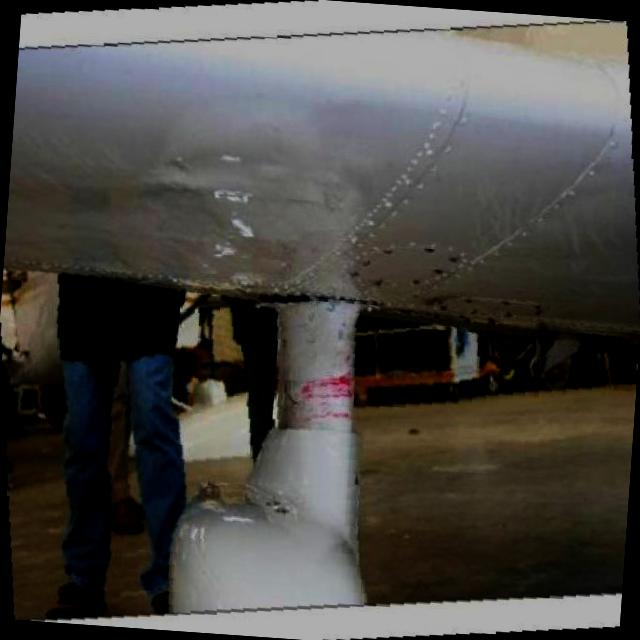dent: (218, 184, 260, 212)
